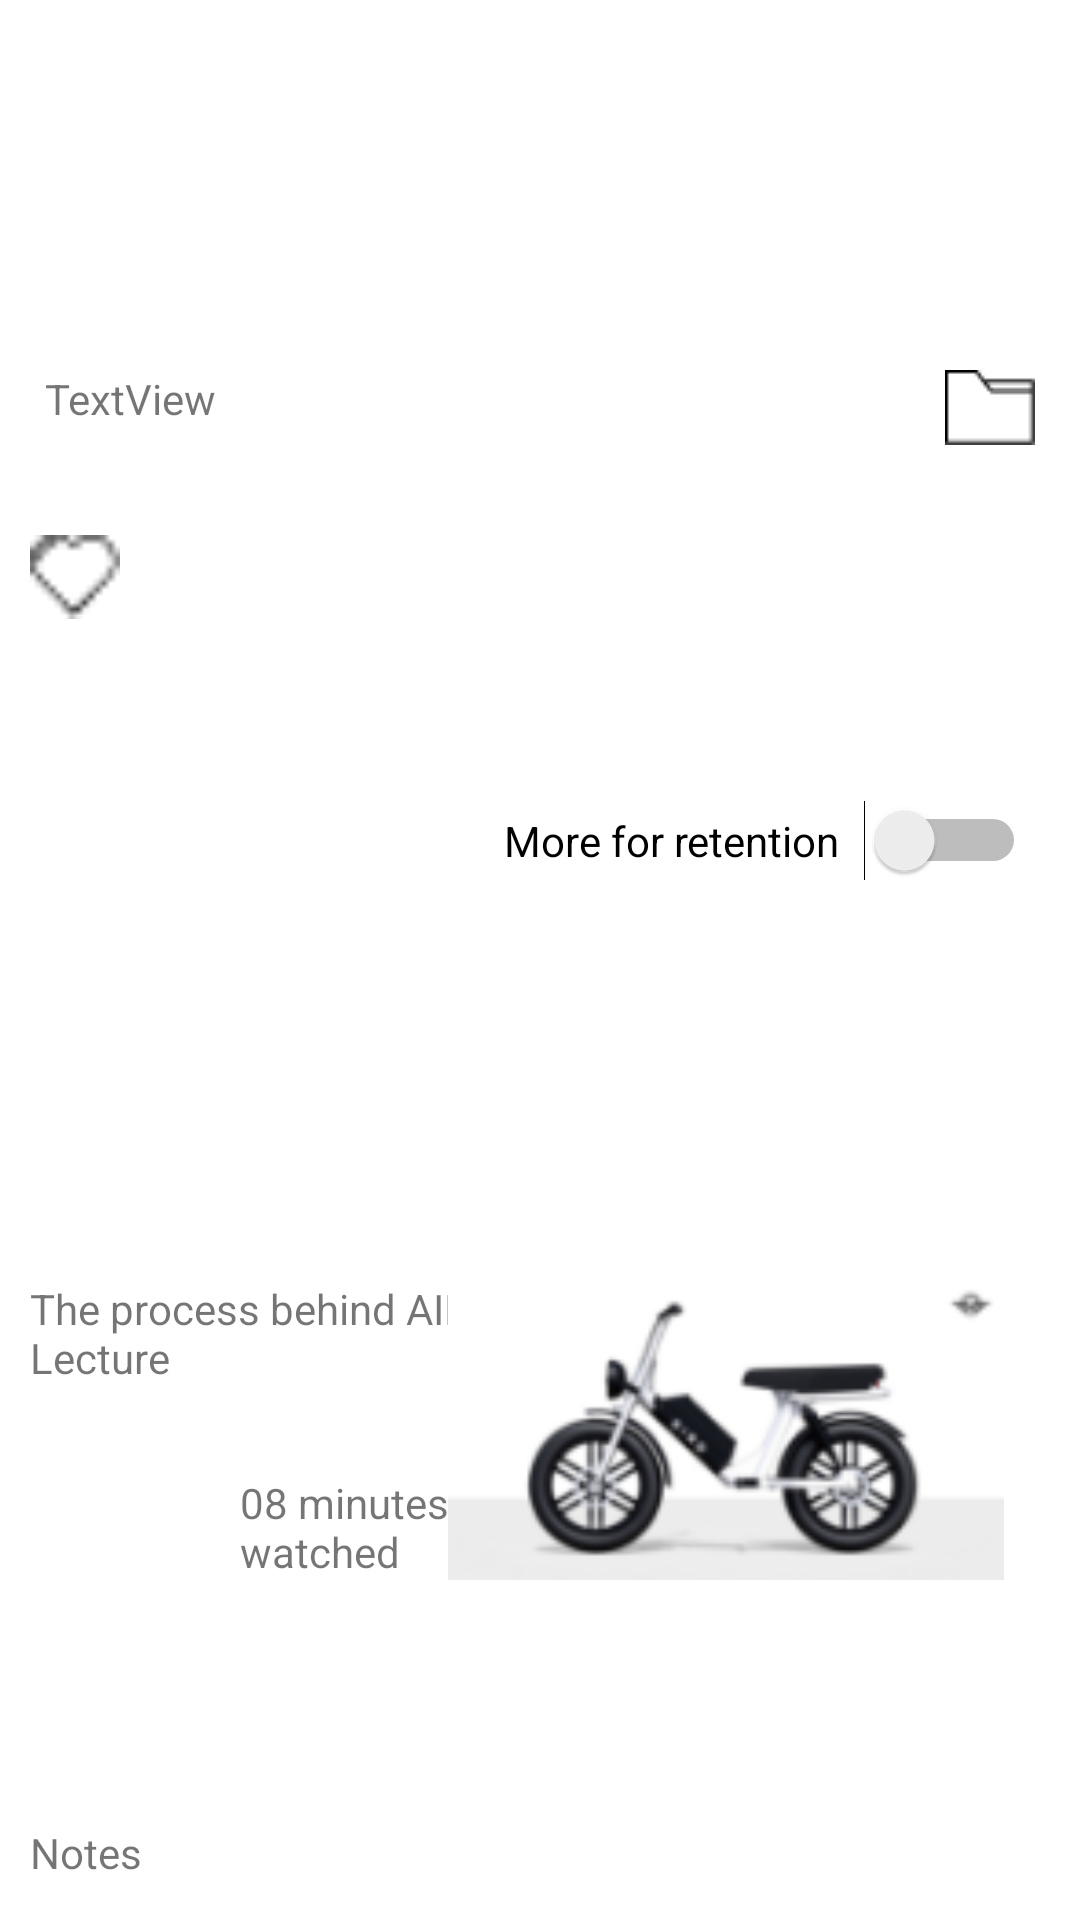

Screen size 1080*1920. Icon name, then its box in pixels as Rect(x1, y1, x2, y2):
heart: Rect(30, 535, 120, 619)
